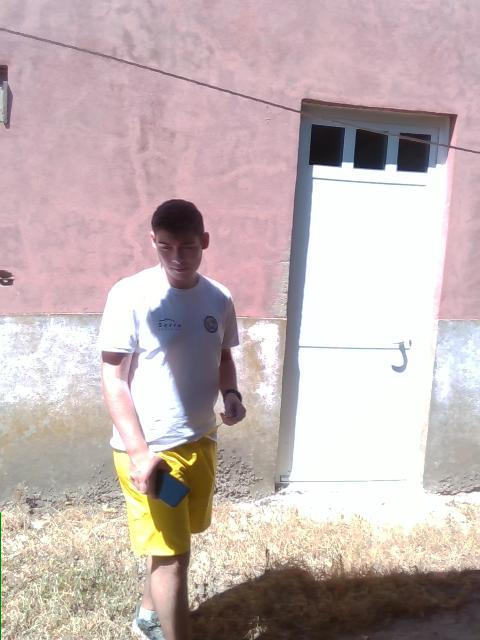closed_door: (274, 96, 457, 494)
